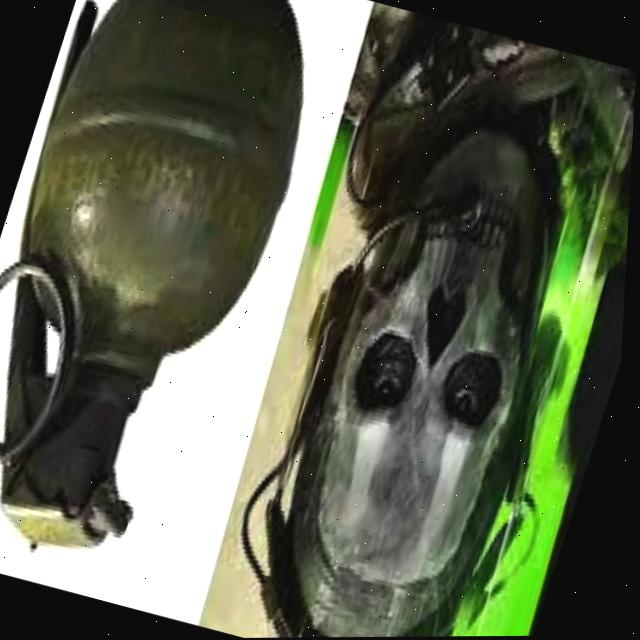grenade: (0, 0, 362, 571)
